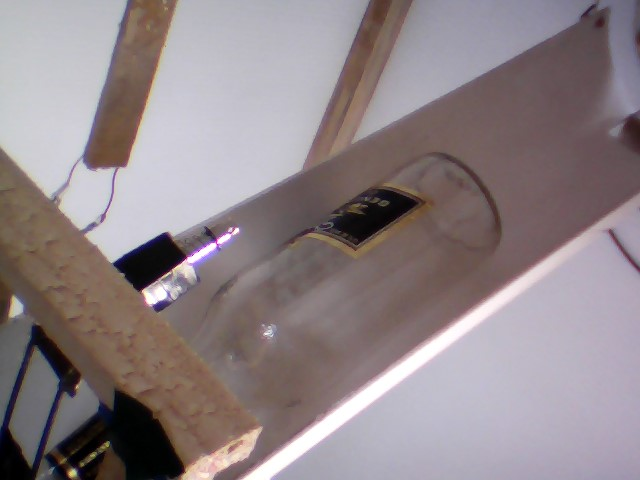vidrio: (182, 146, 517, 426)
